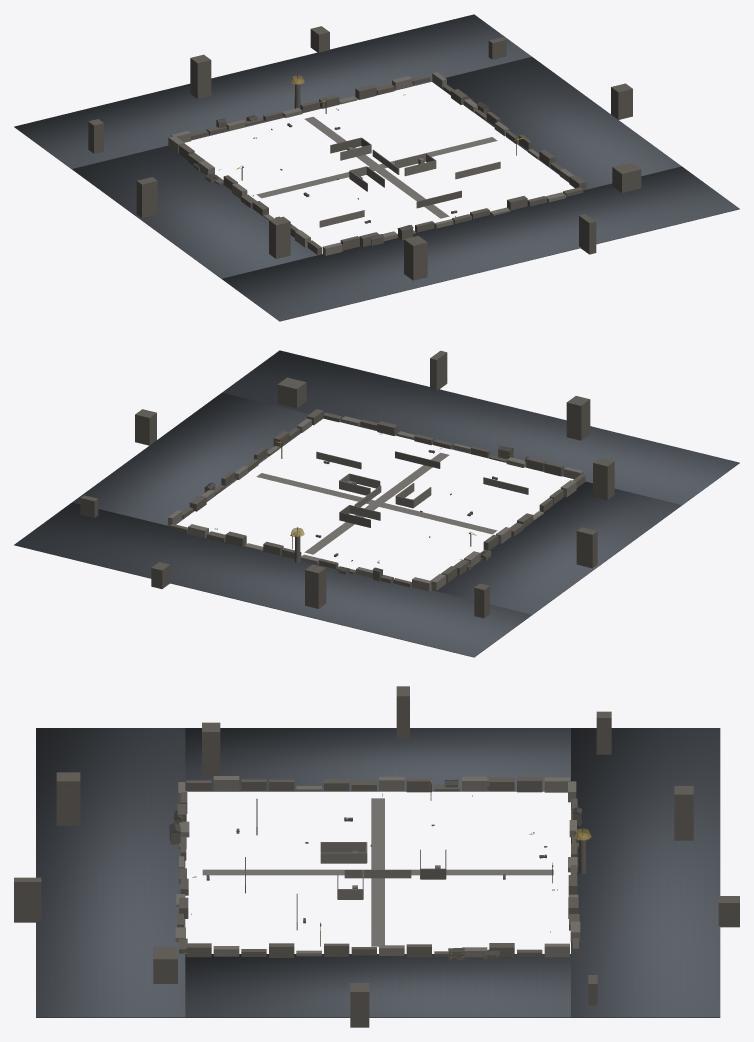
The model's file is kuko-lod2.glb.
3 views of the same model, one above another, from view 1: azimuth 30°, elevation 25°; view 2: azimuth 150°, elevation 25°; view 3: azimuth 270°, elevation 25° (orthographic). The views are drawn at different scales.
Parts seen in each view (by area): view 1: HB_kuko_LOD2_terrain, HB_kuko_LOD2_wall_alt, HB_kuko_LOD2_wall, HB_kuko_LOD2_road; view 2: HB_kuko_LOD2_terrain, HB_kuko_LOD2_wall_alt, HB_kuko_LOD2_wall, HB_kuko_LOD2_road; view 3: HB_kuko_LOD2_terrain, HB_kuko_LOD2_wall_alt, HB_kuko_LOD2_wall, HB_kuko_LOD2_road, HB_kuko_LOD2_trim.
Boxes of the visible parts, x1,y1,x2,y2 form: HB_kuko_LOD2_terrain: (14, 14, 739, 321); HB_kuko_LOD2_wall_alt: (88, 26, 641, 280); HB_kuko_LOD2_wall: (168, 72, 573, 255); HB_kuko_LOD2_road: (256, 116, 497, 218); HB_kuko_LOD2_terrain: (14, 350, 739, 657); HB_kuko_LOD2_wall_alt: (80, 350, 614, 618); HB_kuko_LOD2_wall: (168, 416, 583, 591); HB_kuko_LOD2_road: (256, 452, 497, 554); HB_kuko_LOD2_terrain: (36, 728, 720, 1017); HB_kuko_LOD2_wall_alt: (14, 686, 739, 1027); HB_kuko_LOD2_wall: (175, 776, 580, 957); HB_kuko_LOD2_road: (202, 798, 553, 946); HB_kuko_LOD2_trim: (169, 779, 586, 959).
Bounding box in the file's own units: 616 × 45.27 × 632.
8 materials, 7 textured.
